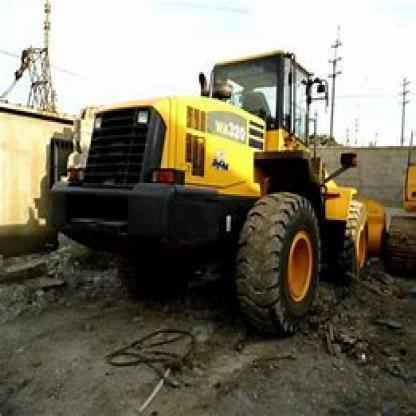bull_dozer/loader/grader: (46, 37, 391, 342)
